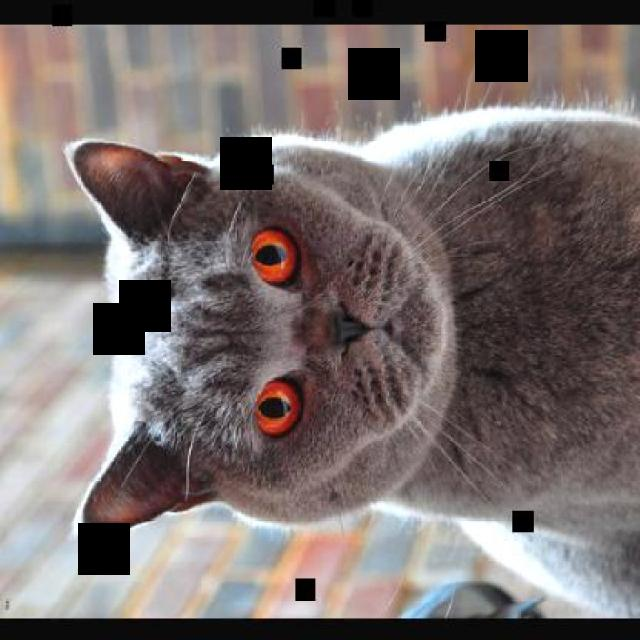unauthorized: (61, 74, 638, 617)
